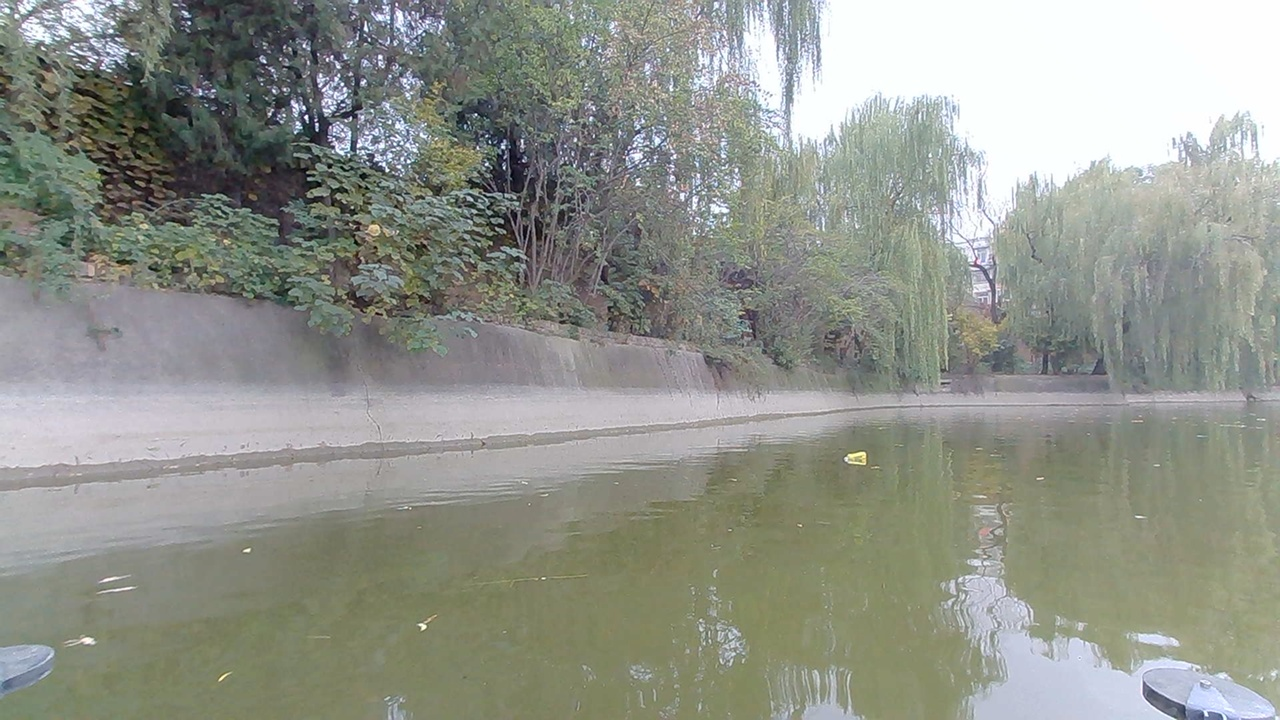bottle: (841, 448, 875, 471)
